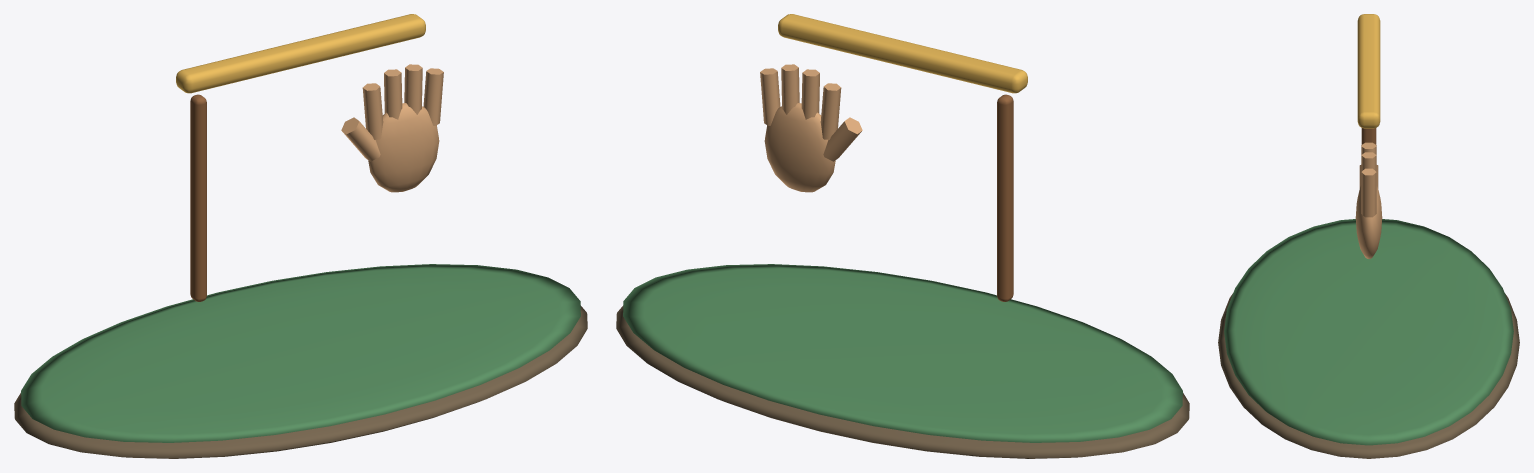
The model's file is complete-second-support-hold.glb.
3 renders of one model, left to right at view 1: azimuth 30°, elevation 25°; view 2: azimuth 150°, elevation 25°; view 3: azimuth 270°, elevation 25°, orthographic. The views are drawn at different scales.
Parts seen in each view (by area): view 1: complete-second-support-hold_surface_01, complete-second-support-hold_surface_00, complete-second-support-hold_surface_03, complete-second-support-hold_surface_04, complete-second-support-hold_surface_02; view 2: complete-second-support-hold_surface_01, complete-second-support-hold_surface_00, complete-second-support-hold_surface_03, complete-second-support-hold_surface_04, complete-second-support-hold_surface_02; view 3: complete-second-support-hold_surface_01, complete-second-support-hold_surface_00, complete-second-support-hold_surface_04, complete-second-support-hold_surface_03.
Boxes of the visible parts, <box> form: complete-second-support-hold_surface_01: <box>21,264,580,442</box>; complete-second-support-hold_surface_00: <box>14,305,587,458</box>; complete-second-support-hold_surface_03: <box>341,64,443,192</box>; complete-second-support-hold_surface_04: <box>176,14,425,93</box>; complete-second-support-hold_surface_02: <box>190,94,206,301</box>; complete-second-support-hold_surface_01: <box>623,264,1182,442</box>; complete-second-support-hold_surface_00: <box>616,305,1189,458</box>; complete-second-support-hold_surface_03: <box>760,64,862,192</box>; complete-second-support-hold_surface_04: <box>778,14,1027,93</box>; complete-second-support-hold_surface_02: <box>997,94,1013,301</box>; complete-second-support-hold_surface_01: <box>1224,219,1513,445</box>; complete-second-support-hold_surface_00: <box>1218,293,1519,458</box>; complete-second-support-hold_surface_04: <box>1357,14,1380,128</box>; complete-second-support-hold_surface_03: <box>1355,142,1382,258</box>.
Size of the model in its own units: 4.56 by 2.68 by 2.5.
